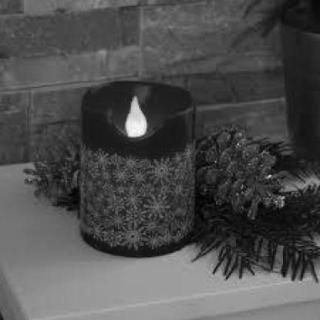Fire: (113, 91, 155, 141)
